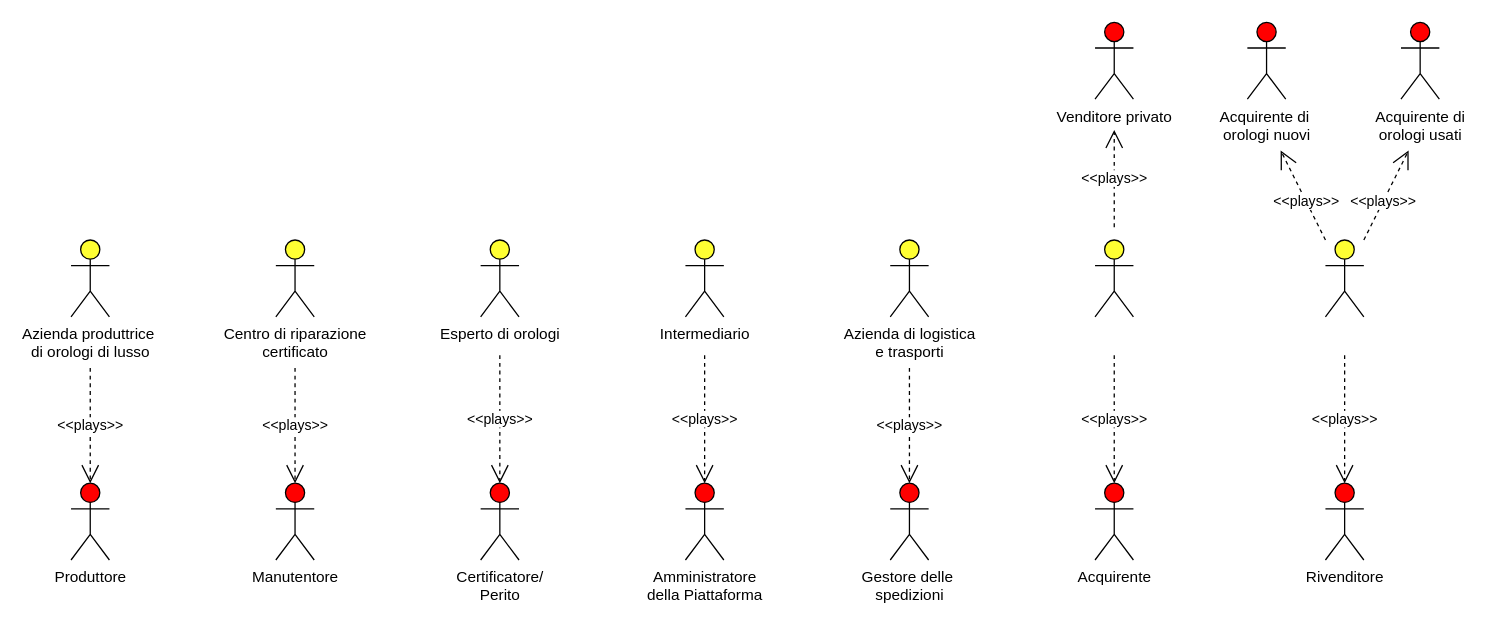
This 1487x628 diagram has some shape labels left out. The centre of each missing label's shape, as x and y in pixels:
Cliente finale: pixel 1113 278
Venditore: pixel 1344 278
